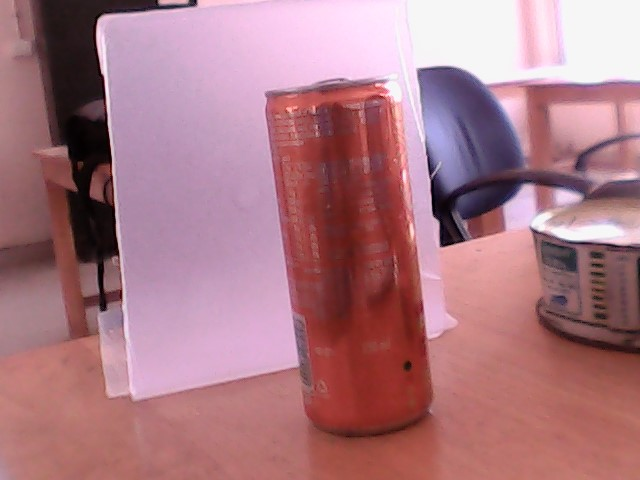Metal: (246, 101, 480, 480)
